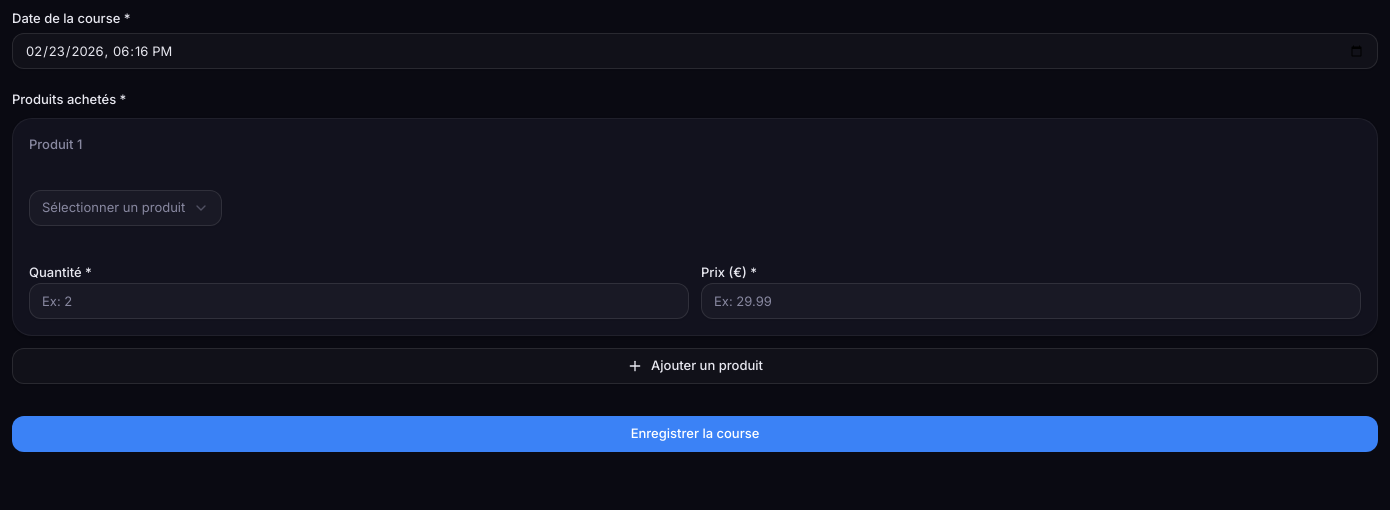
Scenario: ShoppingForm › affiche une erreur si le formulaire est soumis sans sélectionner de produit
Step 1. Click the button "Enregistrer la course" → (695, 434), box [12,416,1378,452]
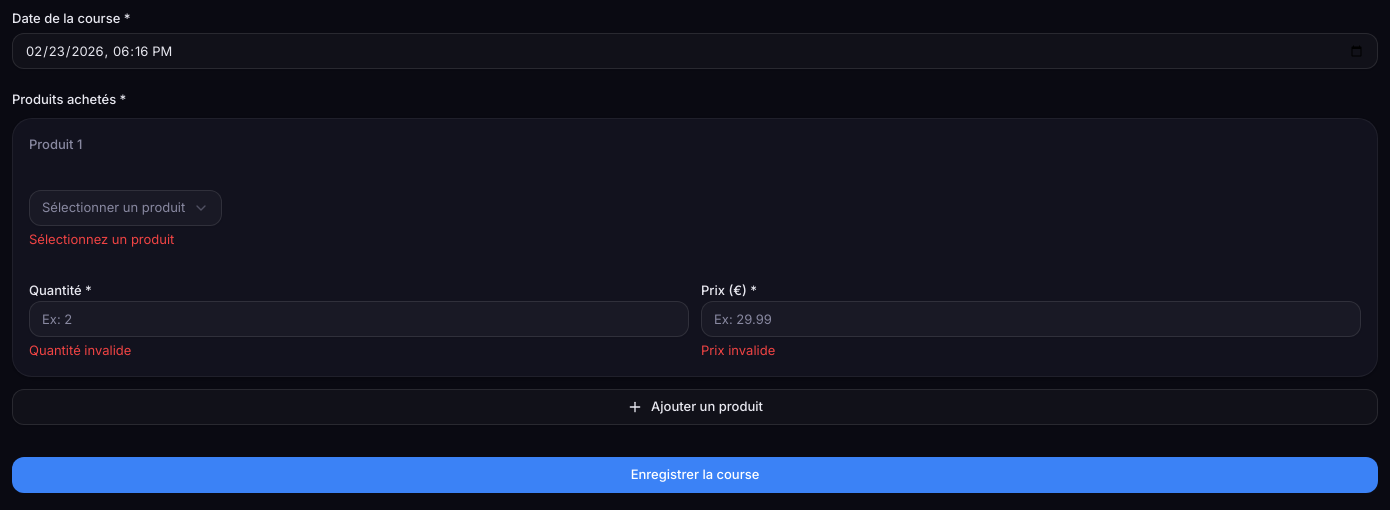
Expected: the text "Sélectionnez un produit" is shown, [29,231,174,247]
